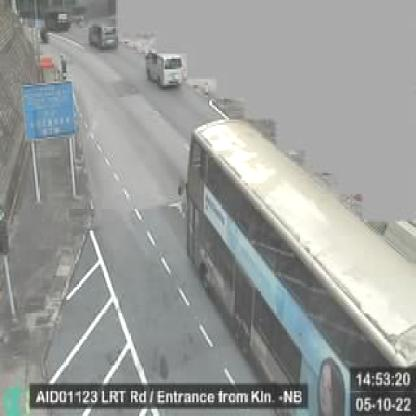Bus: (178, 118, 415, 414)
Car: (144, 47, 182, 88), (88, 21, 116, 50), (46, 10, 70, 32)
